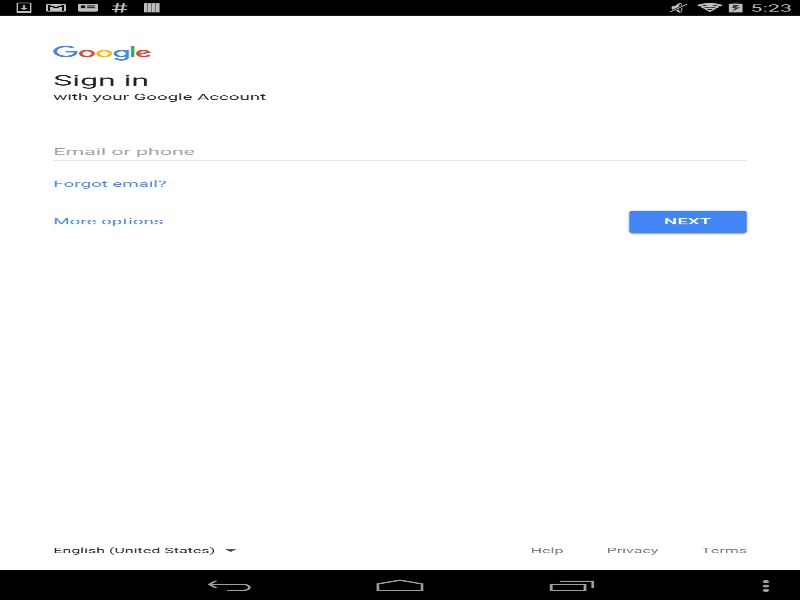Button: (32, 206, 185, 236), (629, 210, 746, 233), (53, 178, 166, 190)
Input: (53, 144, 746, 159)
